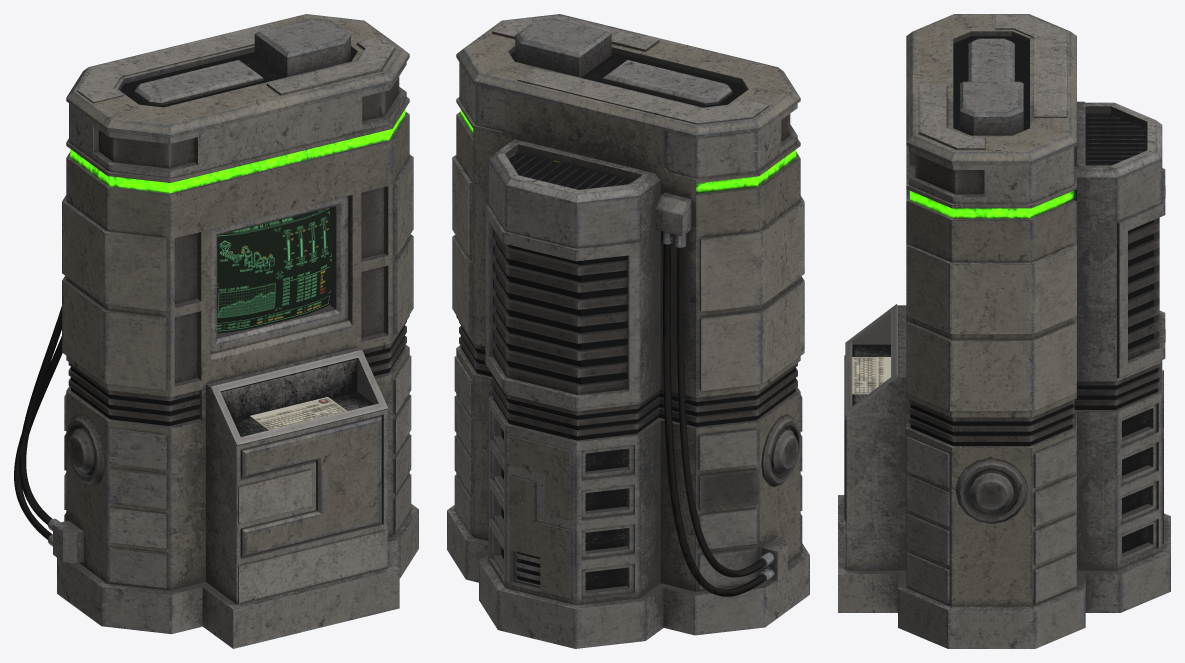
Rendered from radar-terminal.glb.
3 views of the same model, side by side, from view 1: azimuth 30°, elevation 25°; view 2: azimuth 150°, elevation 25°; view 3: azimuth 270°, elevation 25° (orthographic). The views are drawn at different scales.
Visible parts, largest first — view 1: console_0, screen_1, keyboard_2; view 2: console_0; view 3: console_0, keyboard_2.
Part boxes in pixels (box(x1,y1,x2,y2)): console_0: box(14, 14, 418, 648); screen_1: box(217, 208, 332, 333); keyboard_2: box(250, 397, 346, 430); console_0: box(447, 14, 809, 648); console_0: box(838, 14, 1170, 648); keyboard_2: box(852, 357, 890, 394).
Size of the model in its own units: 2.08 by 3.14 by 1.86.
Materials: 3 (3 with a texture image).
